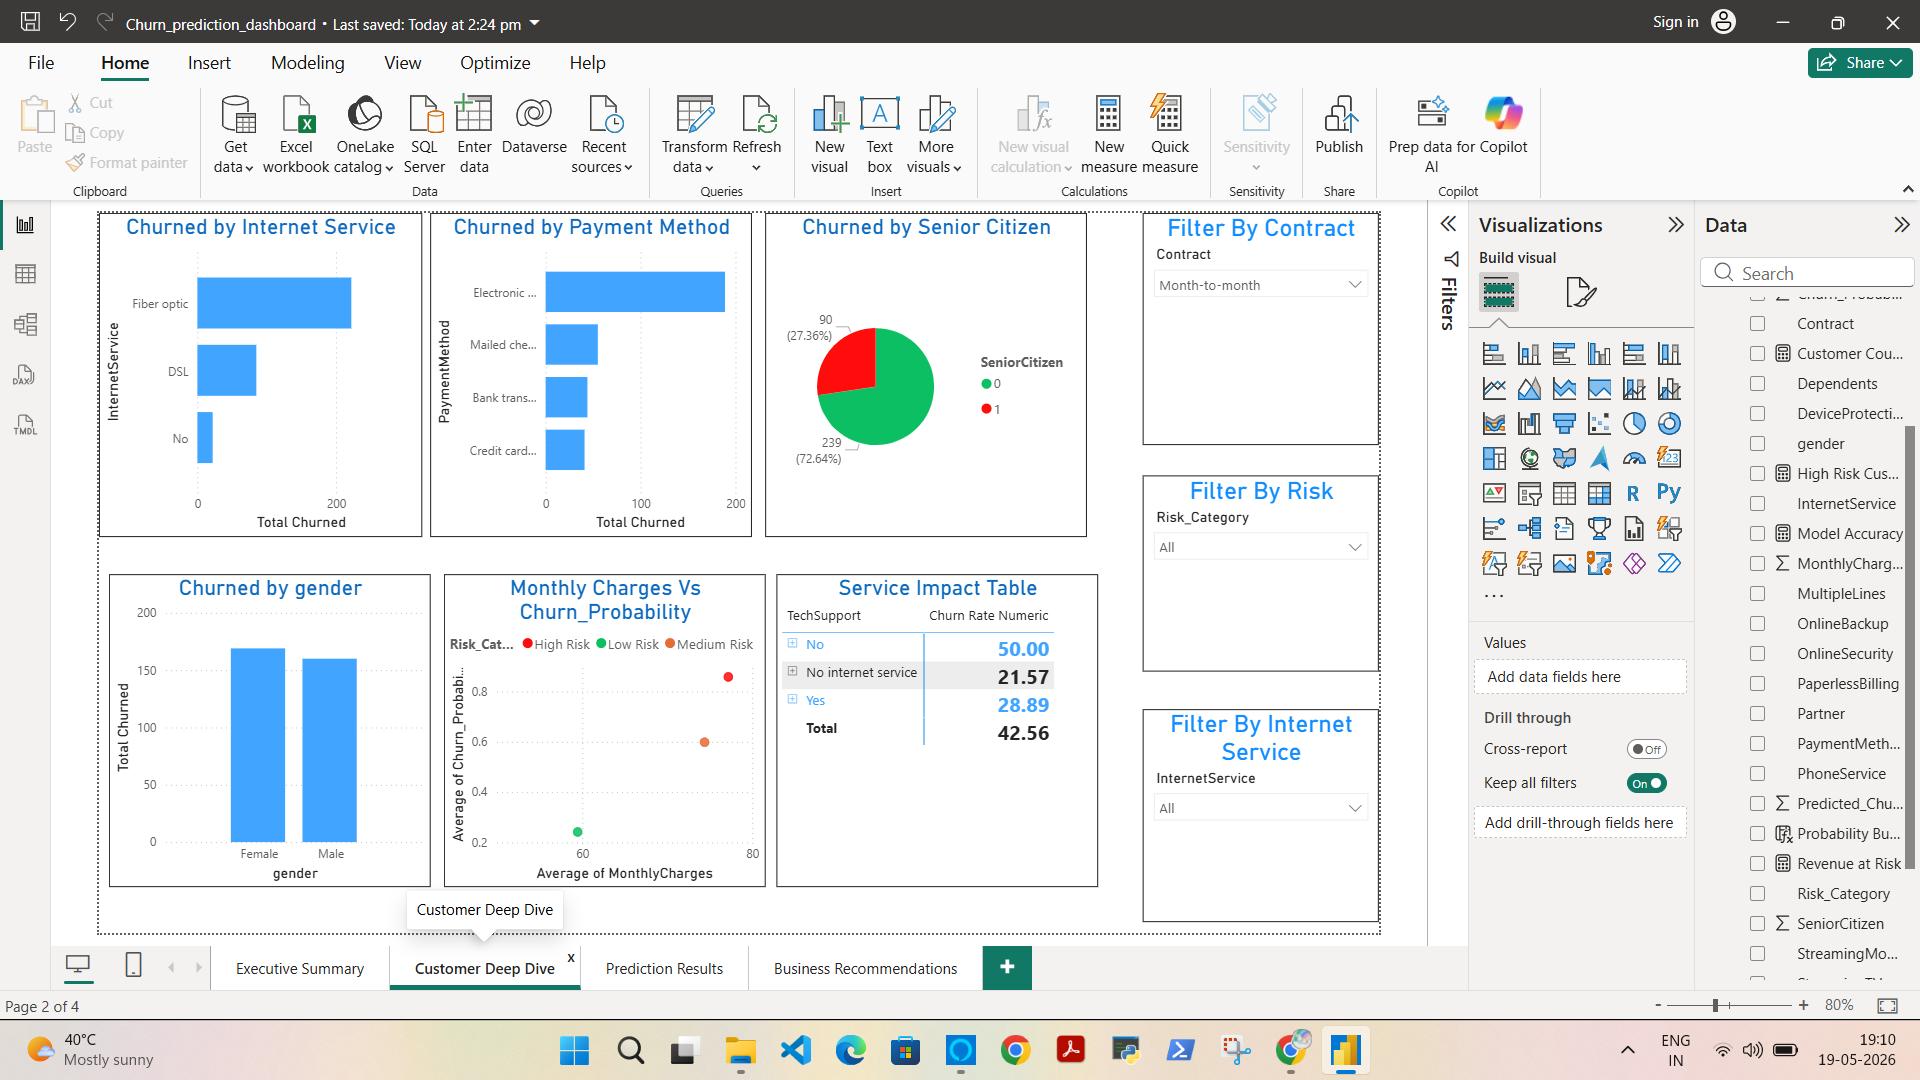

The page's visual inventory and layout, read from the dashboard file:
{"tool":"powerbi","page":{"name":"Customer Deep Dive","canvas":[1280,720],"ordinal":1},"visuals":[{"type":"clusteredBarChart","title":" Churned by Internet Service","fields":{"Category":["churn_predictions.InternetService"],"Y":["churn_predictions.Total Churned"]},"box":[0,0,322.8,324.1],"z":0},{"type":"clusteredBarChart","title":"Churned by Payment Method","fields":{"Category":["churn_predictions.PaymentMethod"],"Y":["churn_predictions.Total Churned"]},"box":[331.4,0,321.6,324.1],"z":1},{"type":"pieChart","title":" Churned by Senior Citizen","fields":{"Y":["churn_predictions.Total Churned"],"Category":["churn_predictions.SeniorCitizen"]},"box":[666.4,0,321.6,324.1],"z":2},{"type":"columnChart","title":"Churned by gender","fields":{"Category":["churn_predictions.gender"],"Y":["churn_predictions.Total Churned"]},"box":[9.8,360.7,321.6,313],"z":3},{"type":"scatterChart","title":"Monthly Charges Vs Churn_Probability","fields":{"Y":["Avg(churn_predictions.Churn_Probability)"],"Category":["churn_predictions.Risk_Category"],"X":["Avg(churn_predictions.MonthlyCharges)"],"Series":["churn_predictions.Risk_Category"]},"box":[344.8,360.7,321.6,313],"z":4},{"type":"pivotTable","title":"Service Impact Table","fields":{"Rows":["churn_predictions.TechSupport","churn_predictions.OnlineSecurity"],"Values":["churn_predictions.Churn Rate Numeric"]},"box":[677.4,360.7,321.6,313],"z":5},{"type":"slicer","title":"Filter By  Contract","fields":{"Values":["churn_predictions.Contract"]},"box":[1044.3,0,236,232.3],"z":6},{"type":"slicer","title":"Filter By  Risk","fields":{"Values":["churn_predictions.Risk_Category"]},"box":[1044.3,262.9,236,195.7],"z":7},{"type":"slicer","title":"Filter By Internet Service","fields":{"Values":["churn_predictions.InternetService"]},"box":[1044.3,496.5,236,212.8],"z":8}]}

Visuals, with their boxes on the page's 1280x720 design canvas (x1, y1, x2, y2). These are canvas units, not pixel positions in the 1920x1080 screenshot, which may show the page scaled, cropped or inside an application window:
" Churned by Internet Service" clusteredBarChart: {"x1": 0, "y1": 0, "x2": 323, "y2": 324}
"Churned by Payment Method" clusteredBarChart: {"x1": 331, "y1": 0, "x2": 653, "y2": 324}
" Churned by Senior Citizen" pieChart: {"x1": 666, "y1": 0, "x2": 988, "y2": 324}
"Churned by gender" columnChart: {"x1": 10, "y1": 361, "x2": 331, "y2": 674}
"Monthly Charges Vs Churn_Probability" scatterChart: {"x1": 345, "y1": 361, "x2": 666, "y2": 674}
"Service Impact Table" pivotTable: {"x1": 677, "y1": 361, "x2": 999, "y2": 674}
"Filter By  Contract" slicer: {"x1": 1044, "y1": 0, "x2": 1280, "y2": 232}
"Filter By  Risk" slicer: {"x1": 1044, "y1": 263, "x2": 1280, "y2": 459}
"Filter By Internet Service" slicer: {"x1": 1044, "y1": 496, "x2": 1280, "y2": 709}
